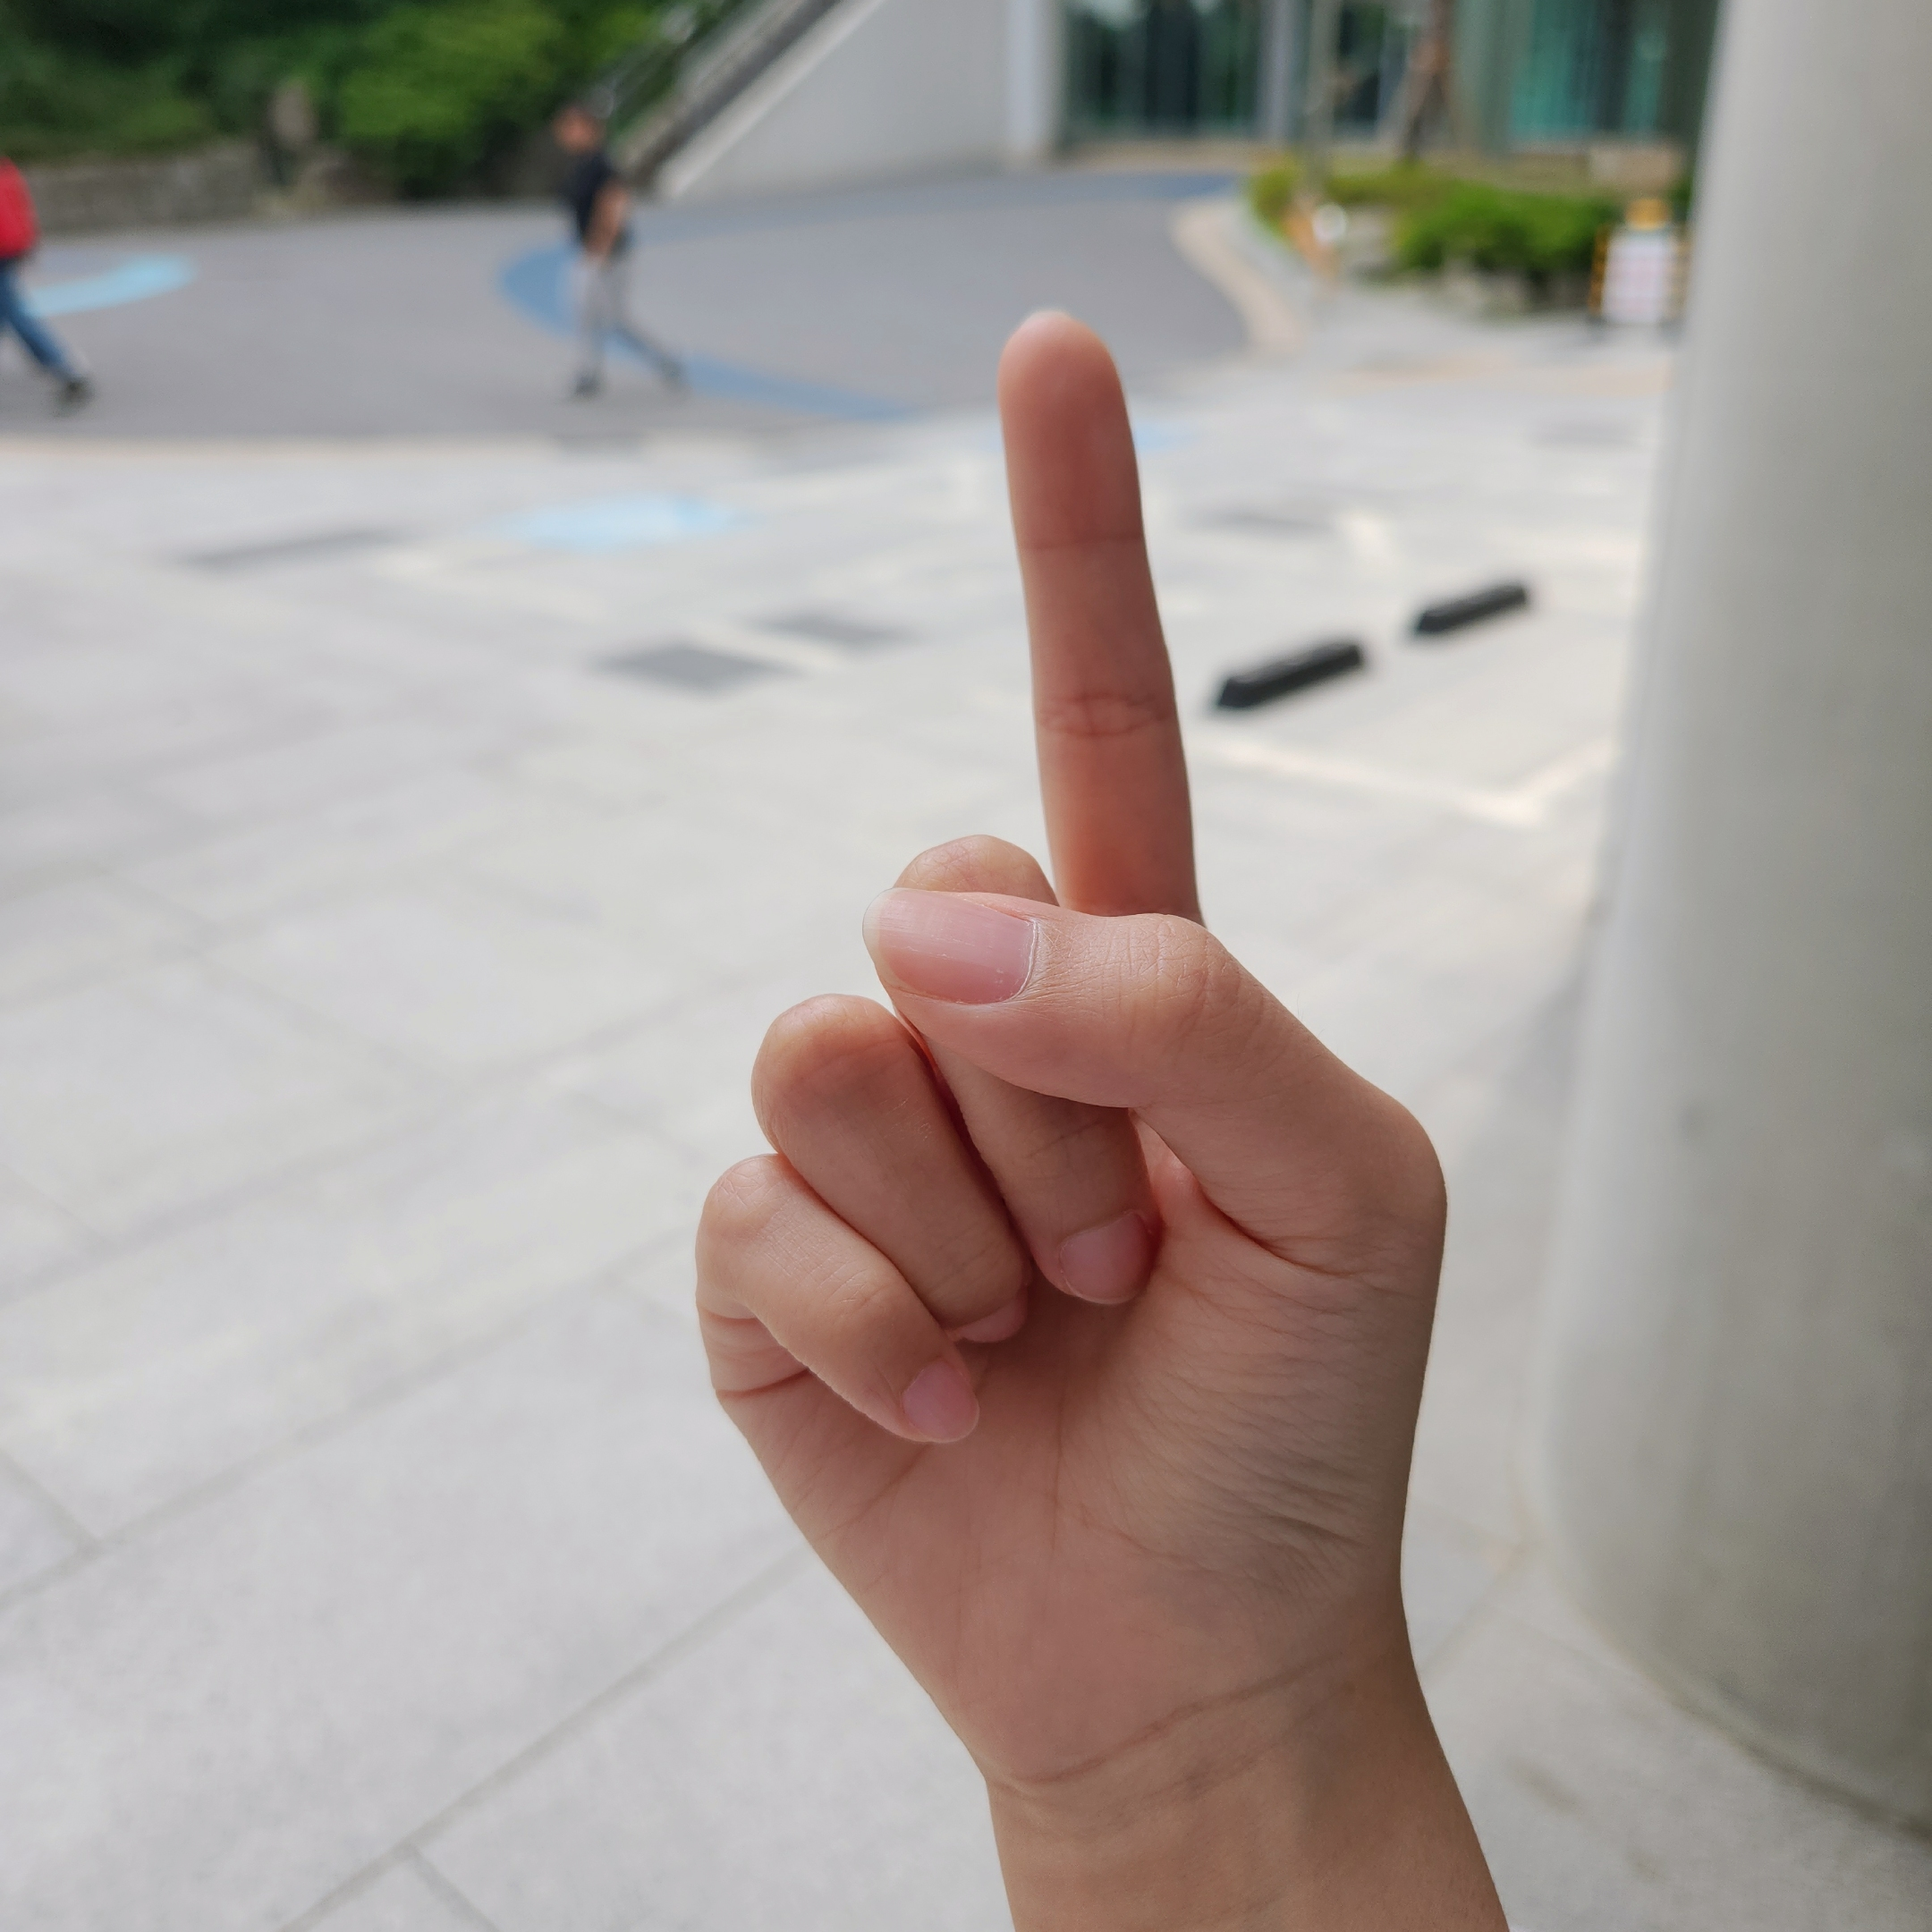what: (688, 317, 1460, 1720)
